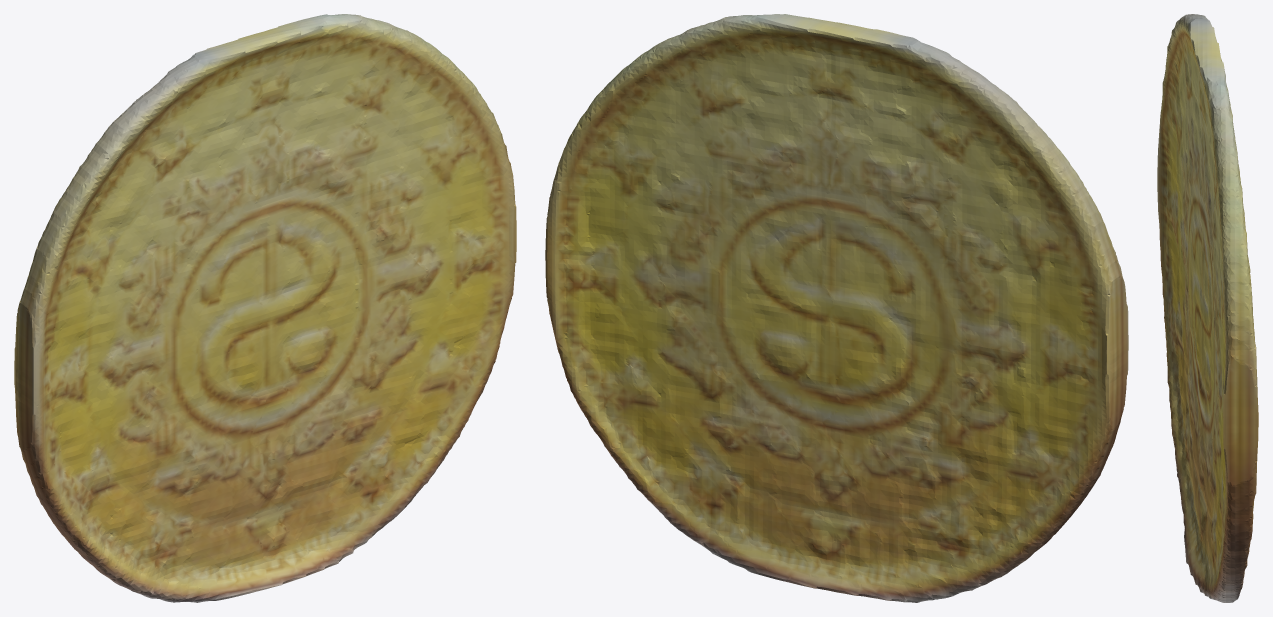
File: coin.glb
3 views of the same model, side by side, from view 1: azimuth 30°, elevation 25°; view 2: azimuth 150°, elevation 25°; view 3: azimuth 270°, elevation 25° (orthographic). The views are drawn at different scales.
Visible parts, largest first — view 1: world; view 2: world; view 3: world.
Boxes of the visible parts, x1,y1,x2,y2 form: world: [14, 14, 516, 602]; world: [545, 14, 1128, 602]; world: [1157, 14, 1258, 602].
Bounding box in the file's own units: 1.98 × 1.99 × 0.3556.
